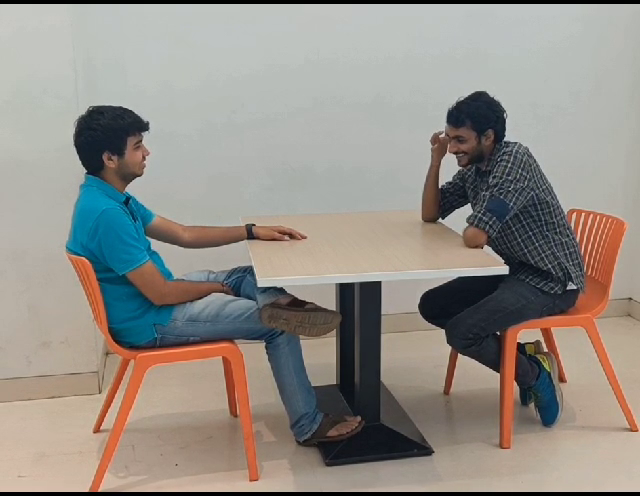person: (61, 99, 155, 190), (433, 91, 513, 173)
